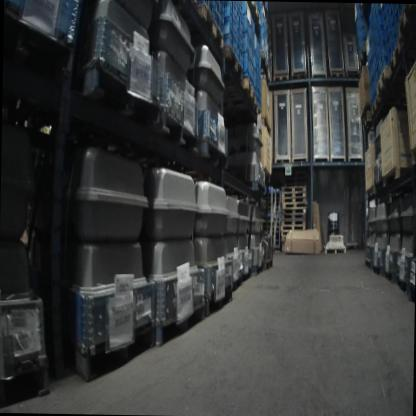pallet: (47, 314, 156, 385), (81, 59, 162, 125), (2, 10, 73, 74), (0, 352, 47, 405), (155, 303, 206, 348), (160, 112, 199, 151), (195, 1, 224, 49), (198, 139, 228, 170), (205, 290, 233, 320), (224, 44, 243, 80), (397, 4, 414, 38), (387, 41, 403, 73), (376, 65, 391, 95), (241, 76, 256, 103), (249, 1, 261, 25), (324, 242, 346, 255), (396, 274, 409, 291), (362, 110, 372, 131), (281, 184, 306, 192), (281, 190, 306, 198), (282, 201, 307, 209), (371, 95, 381, 114), (260, 51, 269, 72), (232, 274, 243, 291), (384, 269, 397, 283), (406, 284, 415, 304), (364, 184, 375, 200), (281, 196, 306, 203), (281, 224, 305, 231), (371, 264, 384, 276), (281, 208, 305, 214), (281, 213, 305, 219), (281, 219, 305, 225), (272, 73, 288, 82), (359, 43, 365, 67), (251, 263, 263, 274), (263, 258, 273, 270), (330, 69, 344, 77), (290, 72, 306, 79), (253, 102, 261, 115), (243, 268, 251, 281), (268, 220, 281, 227), (267, 191, 281, 197), (267, 201, 280, 207), (268, 226, 280, 232), (365, 259, 373, 268), (262, 1, 268, 12), (267, 206, 280, 211), (267, 197, 280, 202), (270, 235, 281, 240), (269, 231, 280, 235), (273, 240, 280, 246), (281, 230, 289, 235), (281, 235, 286, 241)
small_load_carrier: (242, 1, 251, 28), (242, 53, 250, 83), (242, 17, 250, 44), (242, 36, 250, 62), (249, 63, 254, 91), (250, 45, 255, 72), (250, 29, 255, 55), (250, 15, 255, 39)
